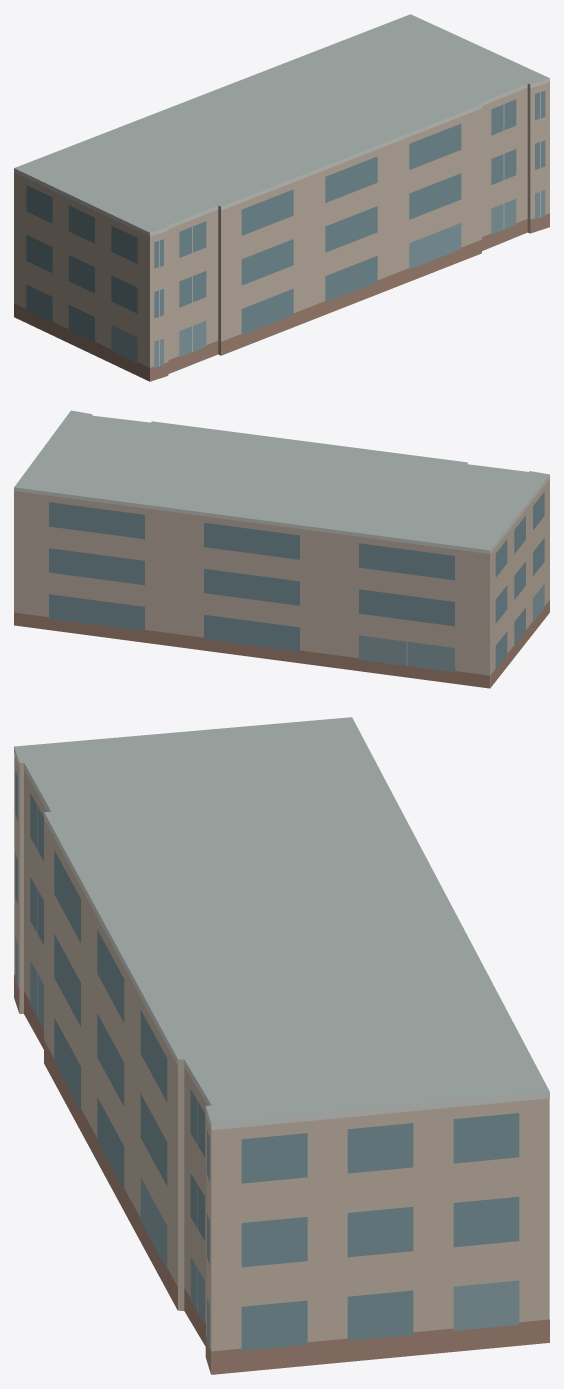
The model's file is survey-upis-32961637.glb.
3 renders of one model, top to bottom at view 1: azimuth 30°, elevation 25°; view 2: azimuth 150°, elevation 25°; view 3: azimuth 270°, elevation 25°, orthographic. The views are drawn at different scales.
Parts seen in each view (by area): view 1: survey-upis-32961637.tmp; view 2: survey-upis-32961637.tmp; view 3: survey-upis-32961637.tmp.
Boxes of the visible parts, <box> form: survey-upis-32961637.tmp: <box>14,14,549,381</box>; survey-upis-32961637.tmp: <box>14,410,549,688</box>; survey-upis-32961637.tmp: <box>14,717,549,1374</box>.
Bounding box in the file's own units: 31.77 × 9.15 × 17.69.
